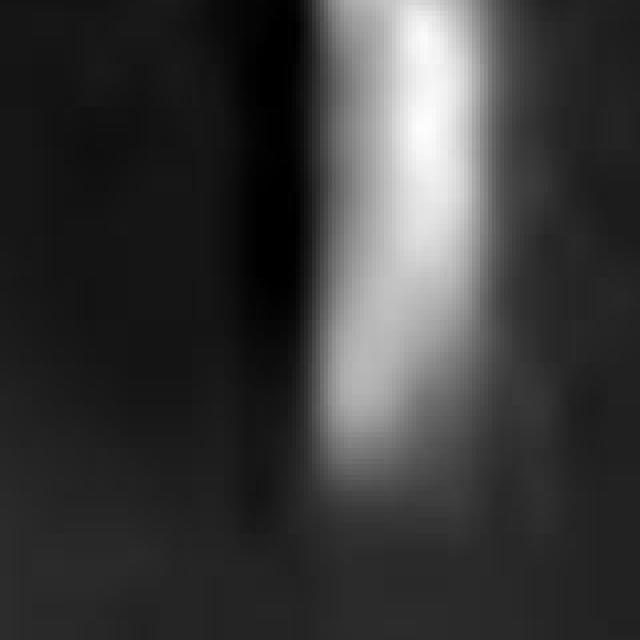person: (249, 1, 529, 540)
